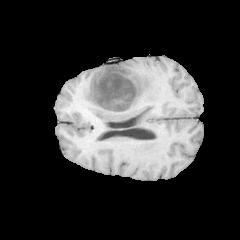glioma: (78, 60, 160, 125)
